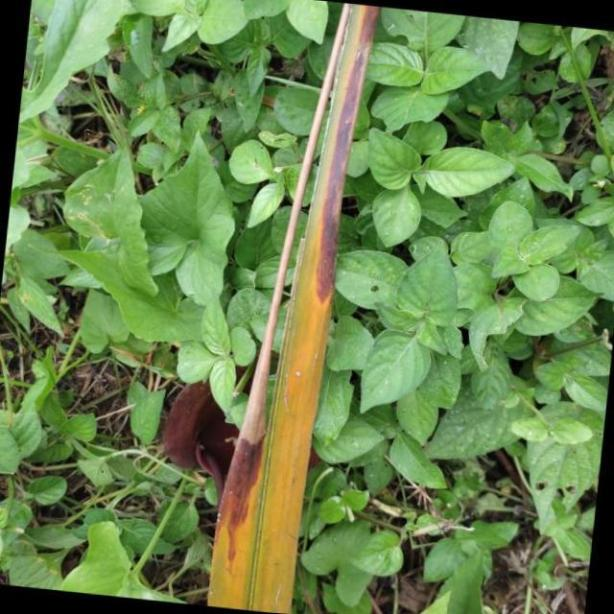Megnesium: (207, 3, 372, 614)
